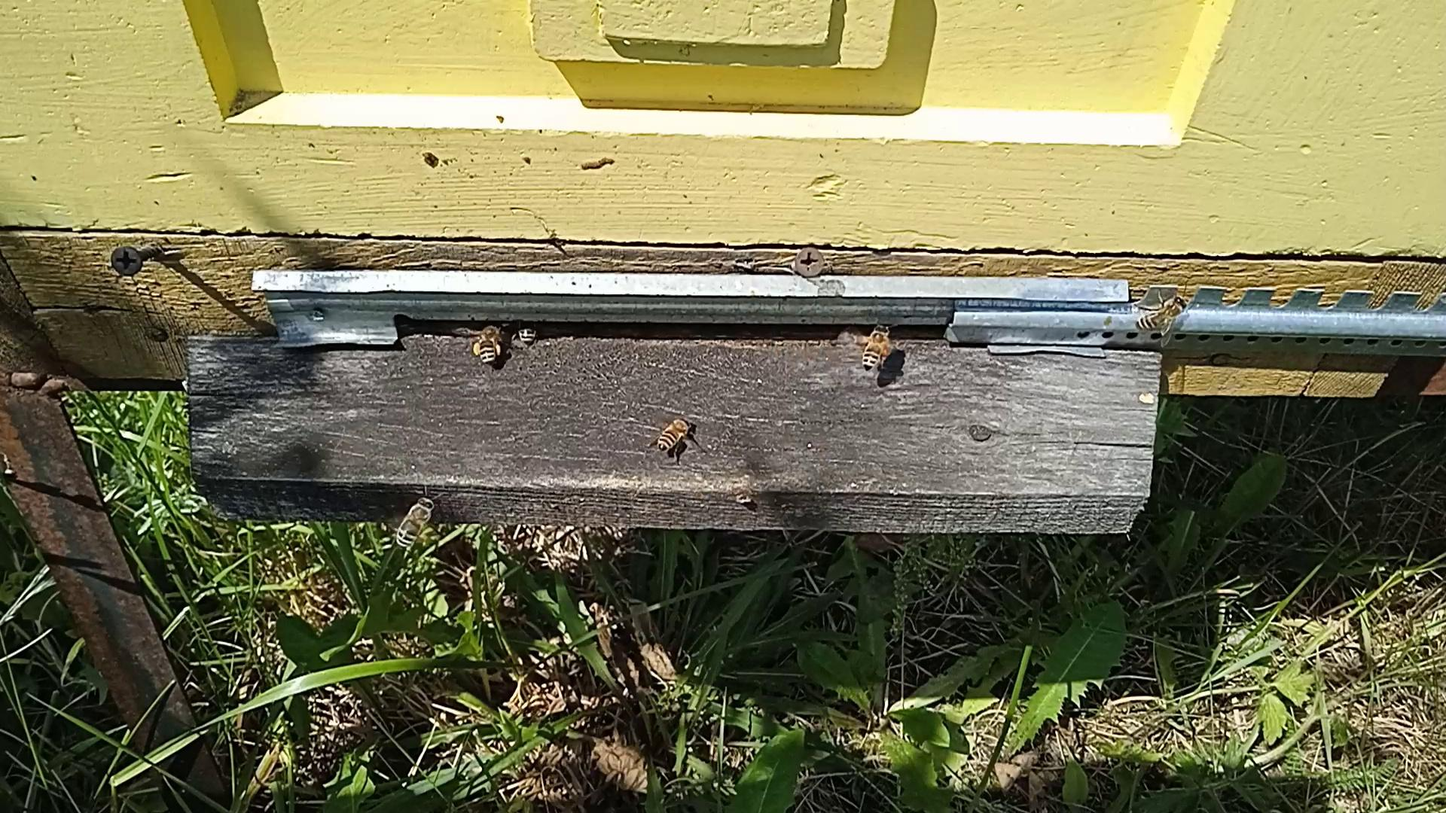worker-bee: (394, 496, 436, 549), (1136, 296, 1189, 334), (468, 321, 505, 366), (860, 324, 894, 371), (656, 416, 694, 454), (512, 320, 540, 350)
